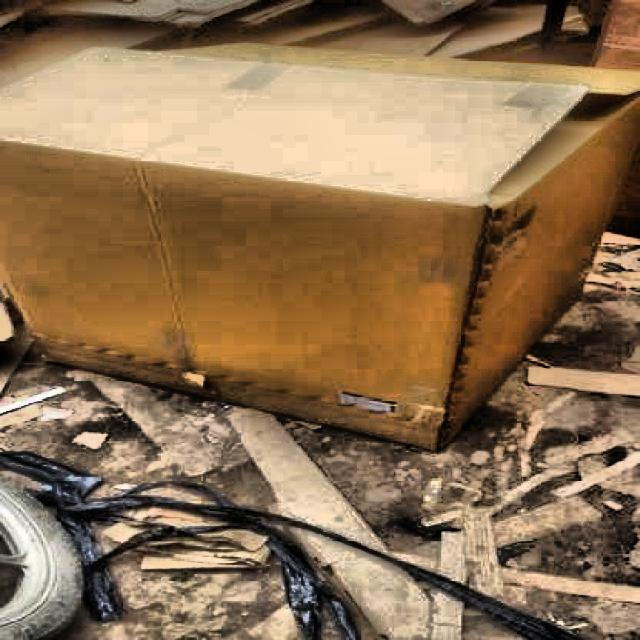Cardbox: (0, 16, 640, 452)
